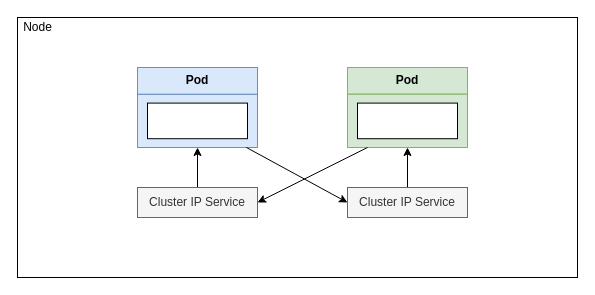
Image size: 595x295. Some labels were removed from this diagram. The centre of each missing label's shape, as x and y in pixels:
Event Bus: point (407, 120)
Posts: point (197, 120)
